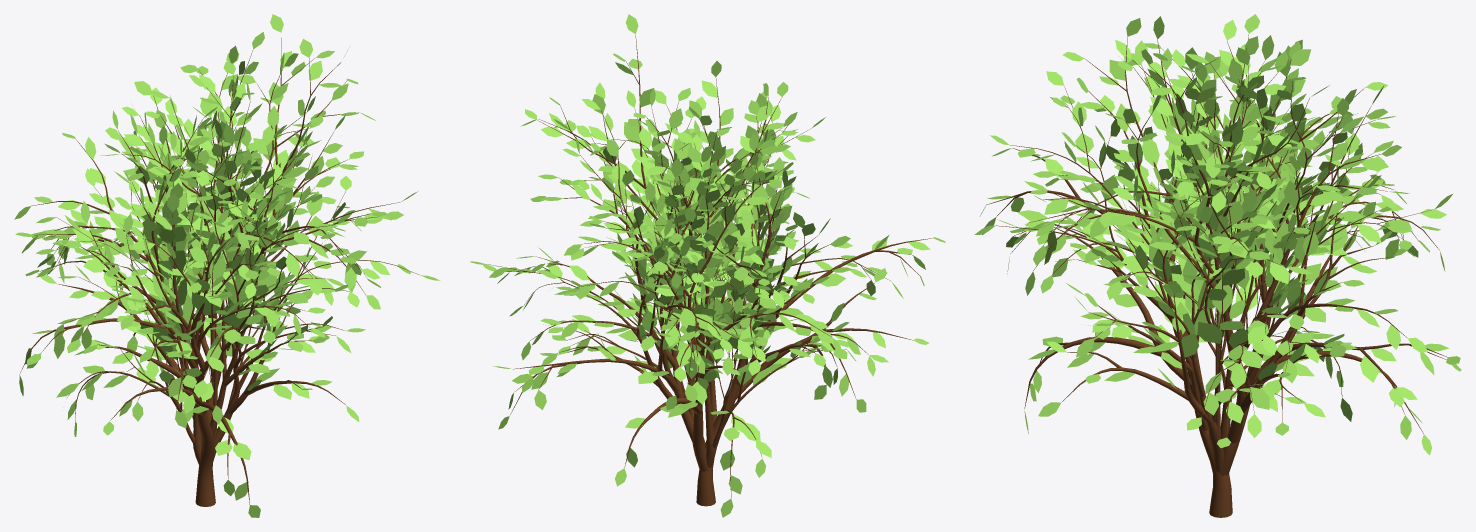
Rendered from BerryBush.fbx.
3 renders of one model, left to right at view 1: azimuth 30°, elevation 25°; view 2: azimuth 150°, elevation 25°; view 3: azimuth 270°, elevation 25°, orthographic. The views are drawn at different scales.
Visible parts, largest first — view 1: leaves, tree; view 2: leaves, tree; view 3: leaves, tree.
Boxes of the visible parts, <box> form: leaves: <box>14,14,440,517</box>; tree: <box>19,38,420,506</box>; leaves: <box>470,14,945,517</box>; tree: <box>486,35,931,506</box>; leaves: <box>974,14,1461,455</box>; tree: <box>987,34,1447,517</box>.
Size of the model in its own units: 543 by 584 by 489.
